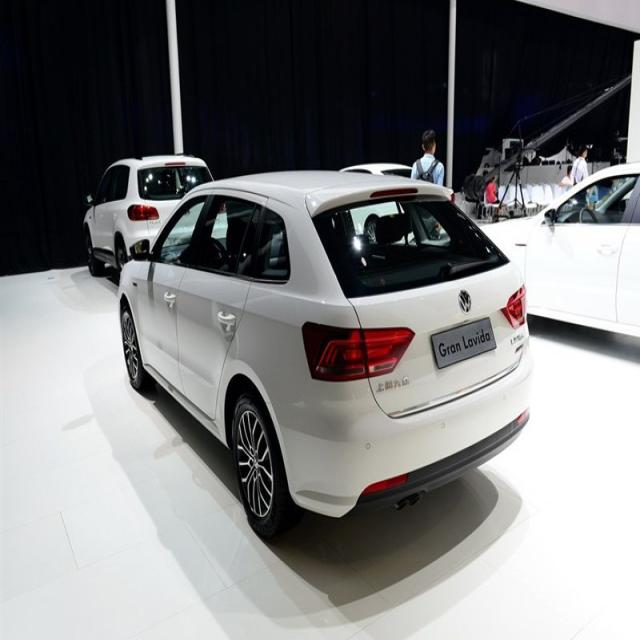back_glass: (308, 194, 510, 305)
back_left_side_light: (301, 320, 417, 382)
back_right_side_light: (503, 279, 530, 331)
door: (179, 198, 269, 404)
front_left_side_door: (134, 183, 221, 402)
front_left_side_mirror: (128, 237, 155, 263)
rear_bumper: (285, 336, 534, 520)
wheel: (232, 394, 291, 537), (120, 304, 153, 392)
